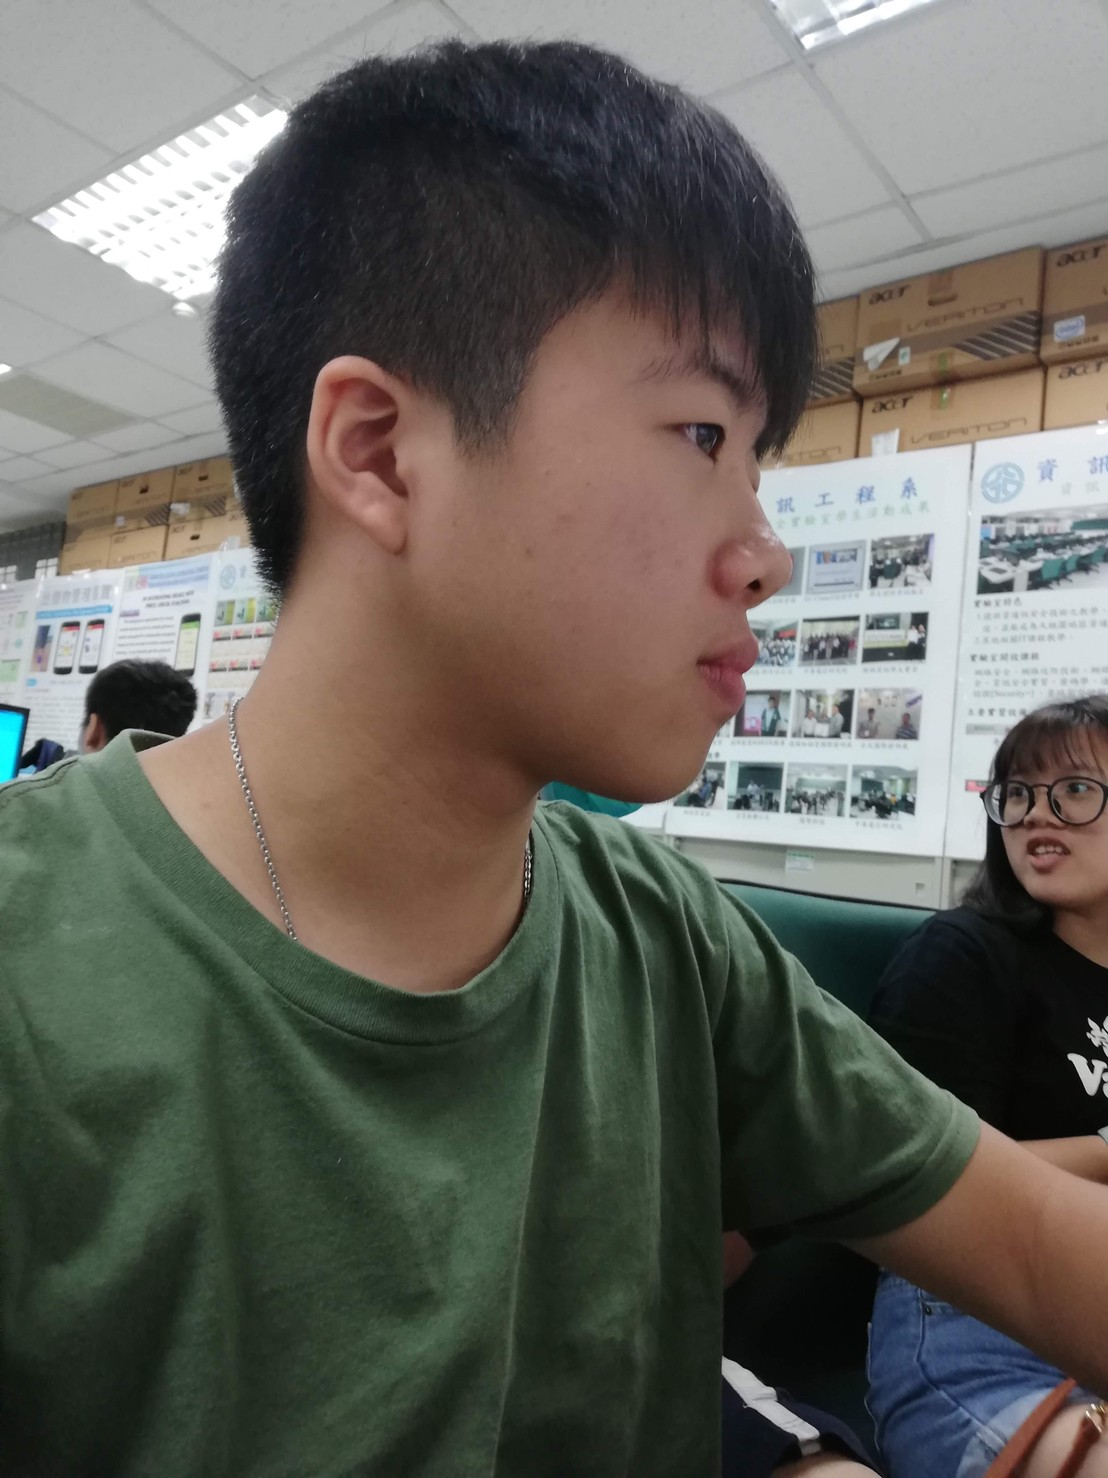people: (109, 43, 819, 1478), (940, 671, 1108, 1343), (24, 628, 250, 807)
